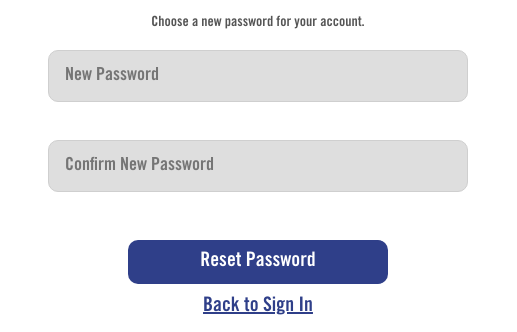
Test case: shows expired token error from backend
In the password field with placeholder "New Password": [258, 76] box [48,50,468,102], type "NewPassword1!"
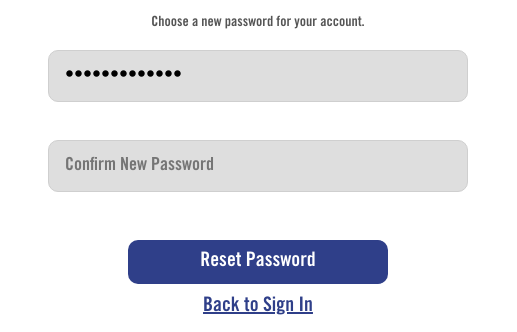
In the password field with placeholder "Confirm New Password": [258, 166] box [48,140,468,192], type "NewPassword1!"
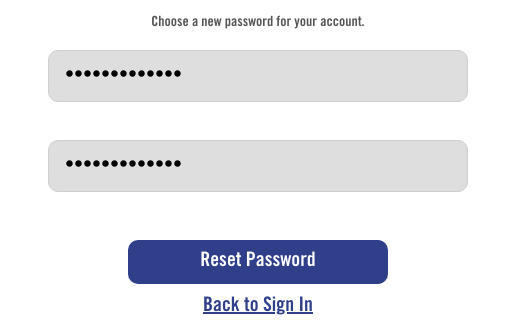
Click the button "Reset Password": [258, 262] box [128,240,388,284]
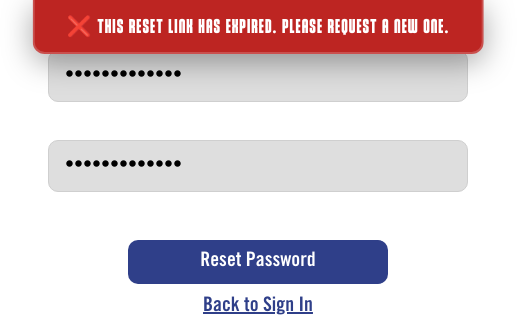
Expected: the text "❌ This reset link has expired. Please request a new one." is shown, [33,0,483,54]
